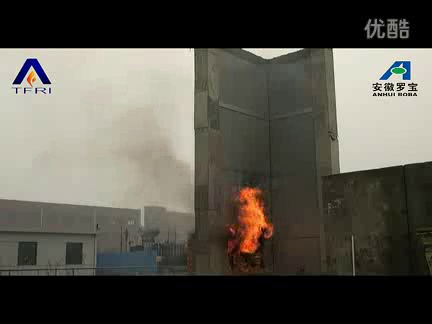fire: (222, 176, 276, 260)
